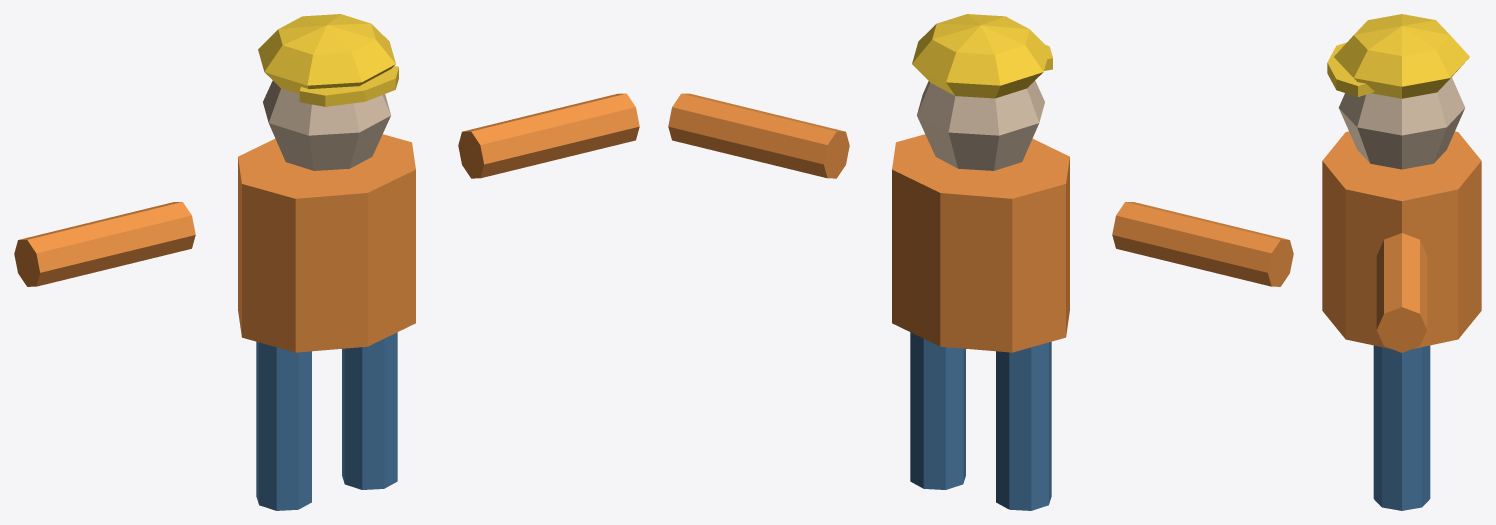
The model's file is warehouse_boss.glb.
3 views of the same model, side by side, from view 1: azimuth 30°, elevation 25°; view 2: azimuth 150°, elevation 25°; view 3: azimuth 270°, elevation 25° (orthographic). The views are drawn at different scales.
Visible parts, largest first — view 1: warehouse_boss; view 2: warehouse_boss; view 3: warehouse_boss.
Boxes of the visible parts, x1,y1,x2,y2 form: warehouse_boss: [14, 14, 639, 510]; warehouse_boss: [668, 14, 1293, 510]; warehouse_boss: [1322, 14, 1481, 510].
Size of the model in its own units: 2.38 by 1.76 by 0.5611.
